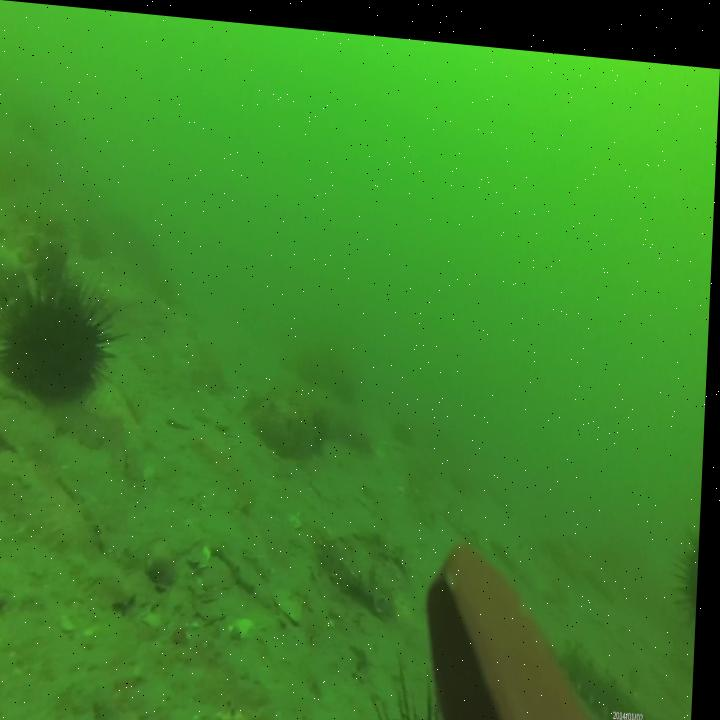echinus: (0, 270, 133, 418), (365, 660, 473, 720), (679, 497, 705, 627)
holothurian: (566, 627, 651, 710)
